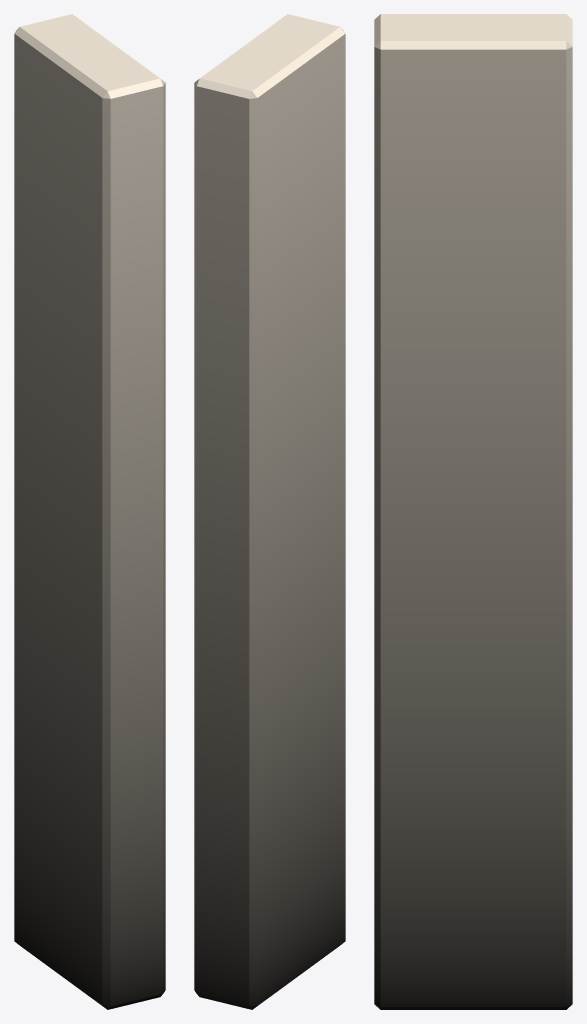
Rendered from SM_VKI_Post_Timber_Mid_Full.fbx.
3 renders of one model, left to right at view 1: azimuth 30°, elevation 25°; view 2: azimuth 150°, elevation 25°; view 3: azimuth 270°, elevation 25°, orthographic. The views are drawn at different scales.
Visible parts, largest first — view 1: SM_VKI_Post_Timber_Mid_Full.001; view 2: SM_VKI_Post_Timber_Mid_Full.001; view 3: SM_VKI_Post_Timber_Mid_Full.001.
Boxes of the visible parts, x1,y1,x2,y2 form: SM_VKI_Post_Timber_Mid_Full.001: (14,14,165,1009); SM_VKI_Post_Timber_Mid_Full.001: (194,14,345,1009); SM_VKI_Post_Timber_Mid_Full.001: (374,14,572,1009).
Size of the model in its own units: 0.24 by 3.34 by 0.62.
